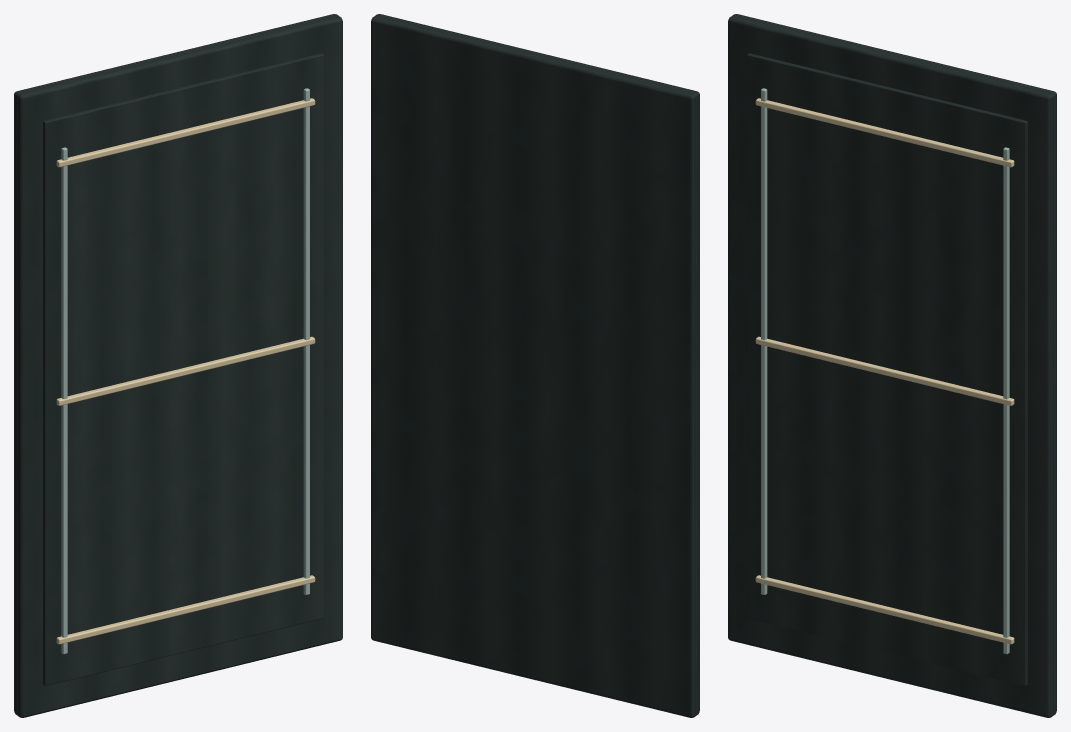
The model's file is elevator-door-panel.glb.
The picture shows the model from 3 angles, left to right: view 1: azimuth 30°, elevation 25°; view 2: azimuth 150°, elevation 25°; view 3: azimuth 330°, elevation 25°; orthographic projection.
Visible parts, largest first — view 1: Elevator_Door_Inset, Elevator_Door_Core, Elevator_Door_Rib_-1.18, Elevator_Door_Rib_1.18, Elevator_Door_Band_0.68, Elevator_Door_Band_5.12, Elevator_Door_Band_2.9; view 2: Elevator_Door_Core; view 3: Elevator_Door_Inset, Elevator_Door_Core, Elevator_Door_Rib_1.18, Elevator_Door_Rib_-1.18, Elevator_Door_Band_0.68, Elevator_Door_Band_5.12, Elevator_Door_Band_2.9.
Part boxes in pixels (x1,y1,x2,y2): Elevator_Door_Inset: [43, 53, 323, 685]; Elevator_Door_Core: [14, 14, 342, 717]; Elevator_Door_Rib_-1.18: [61, 147, 67, 654]; Elevator_Door_Rib_1.18: [303, 88, 309, 594]; Elevator_Door_Band_0.68: [56, 575, 315, 644]; Elevator_Door_Band_5.12: [56, 98, 315, 167]; Elevator_Door_Band_2.9: [56, 336, 315, 405]; Elevator_Door_Core: [371, 14, 699, 717]; Elevator_Door_Inset: [747, 53, 1027, 685]; Elevator_Door_Core: [728, 14, 1056, 717]; Elevator_Door_Rib_1.18: [1003, 147, 1009, 654]; Elevator_Door_Rib_-1.18: [761, 88, 767, 594]; Elevator_Door_Band_0.68: [755, 575, 1014, 644]; Elevator_Door_Band_5.12: [755, 98, 1014, 167]; Elevator_Door_Band_2.9: [755, 336, 1014, 405].
Bounding box in the file's own units: 3.15 × 5.8 × 0.22.
Materials: 4 (2 with a texture image).
